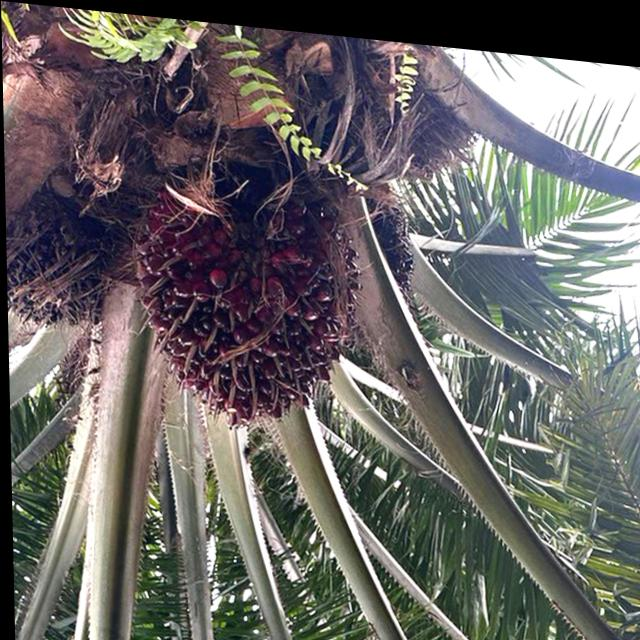ripe: (131, 186, 360, 441), (3, 197, 115, 344)
